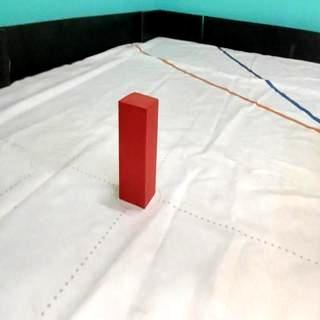redbox: (117, 90, 159, 210)
